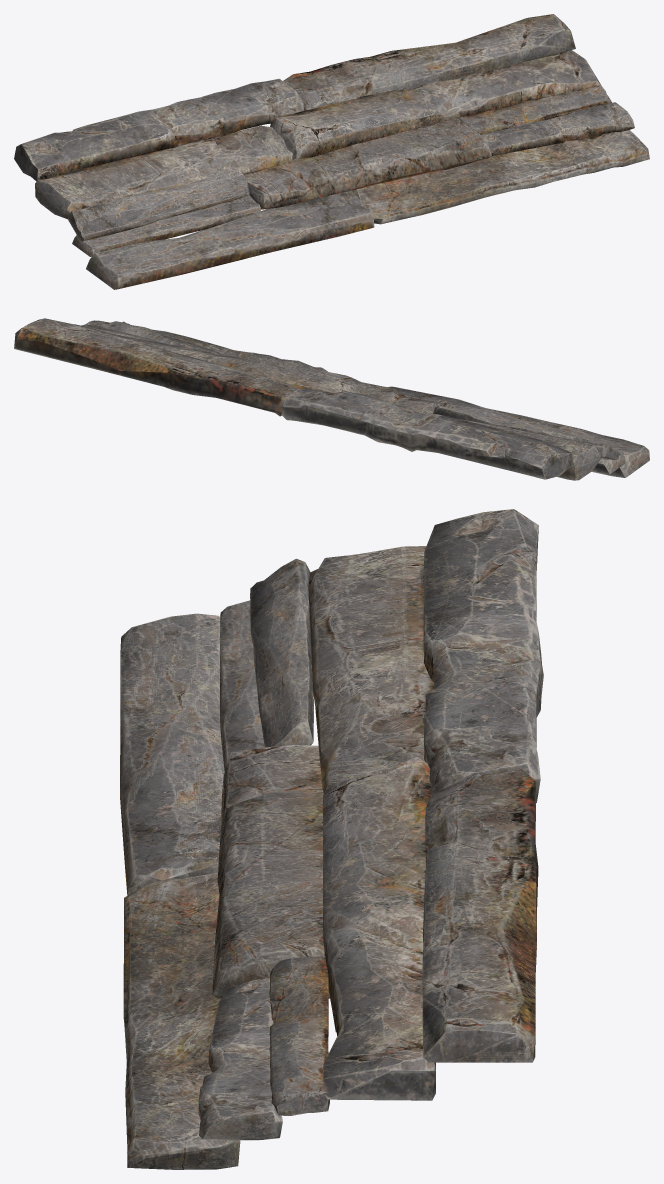
Rendered from SM_Stairs03.FBX.
3 renders of one model, top to bottom at view 1: azimuth 30°, elevation 25°; view 2: azimuth 150°, elevation 25°; view 3: azimuth 270°, elevation 25°, orthographic. The views are drawn at different scales.
Parts seen in each view (by area): view 1: SM_Stairs03; view 2: SM_Stairs03; view 3: SM_Stairs03.
Boxes of the visible parts, x1,y1,x2,y2 form: SM_Stairs03: (14, 14, 649, 289); SM_Stairs03: (14, 318, 649, 480); SM_Stairs03: (120, 509, 543, 1169).
Bounding box in the file's own units: 1194 × 407 × 163.
